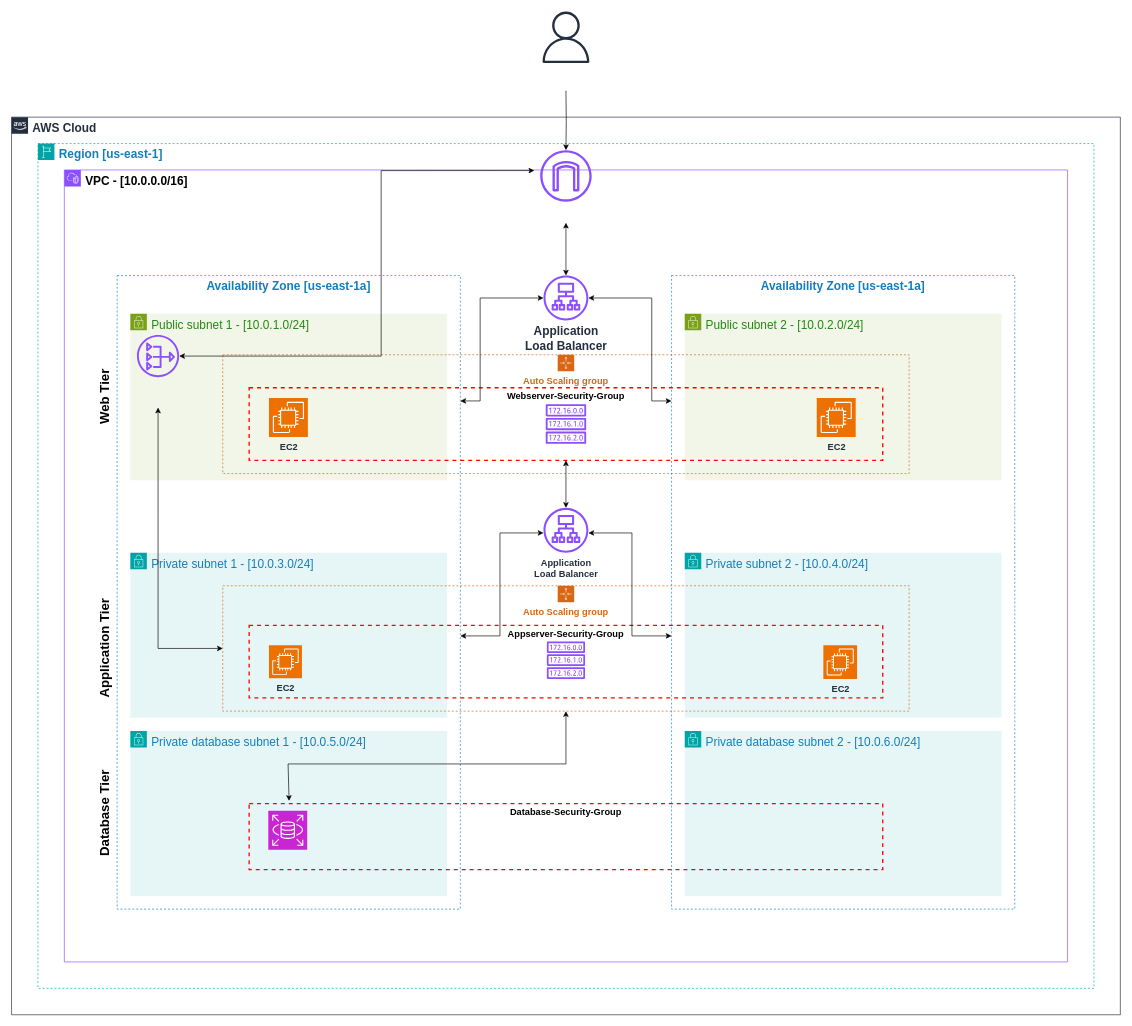
Some shapes in this 1132 by 1026 pixel diagram are drawn without their labels. Here are the shapes that lost their labels. From the top down, the centre of each, then its label:
the point at 565,37: User
the point at 565,175: Internet Gateway
the point at 158,356: NAT Gateway
the point at 565,424: Public-rtb
the point at 565,660: Private-rtb
the point at 287,830: RDS
